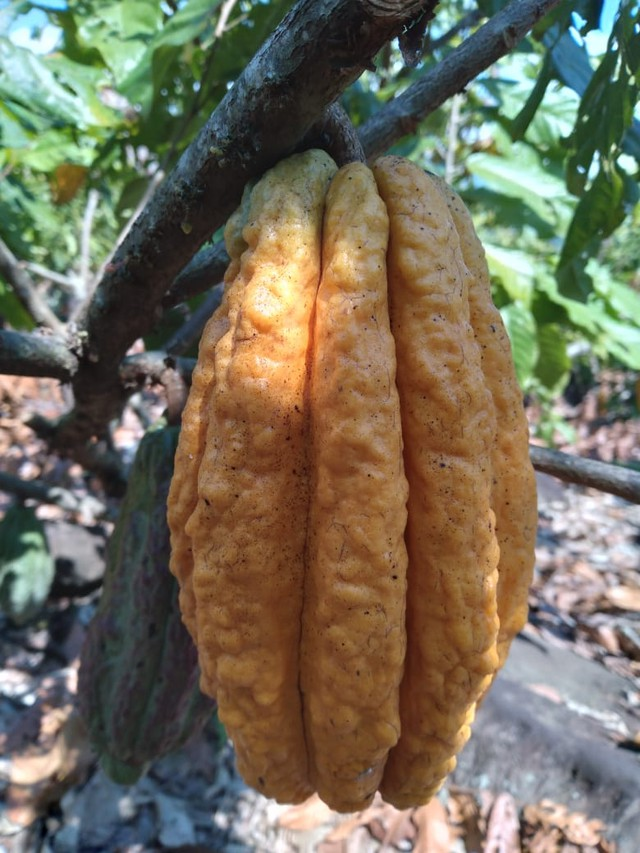Health: (153, 132, 546, 823)
